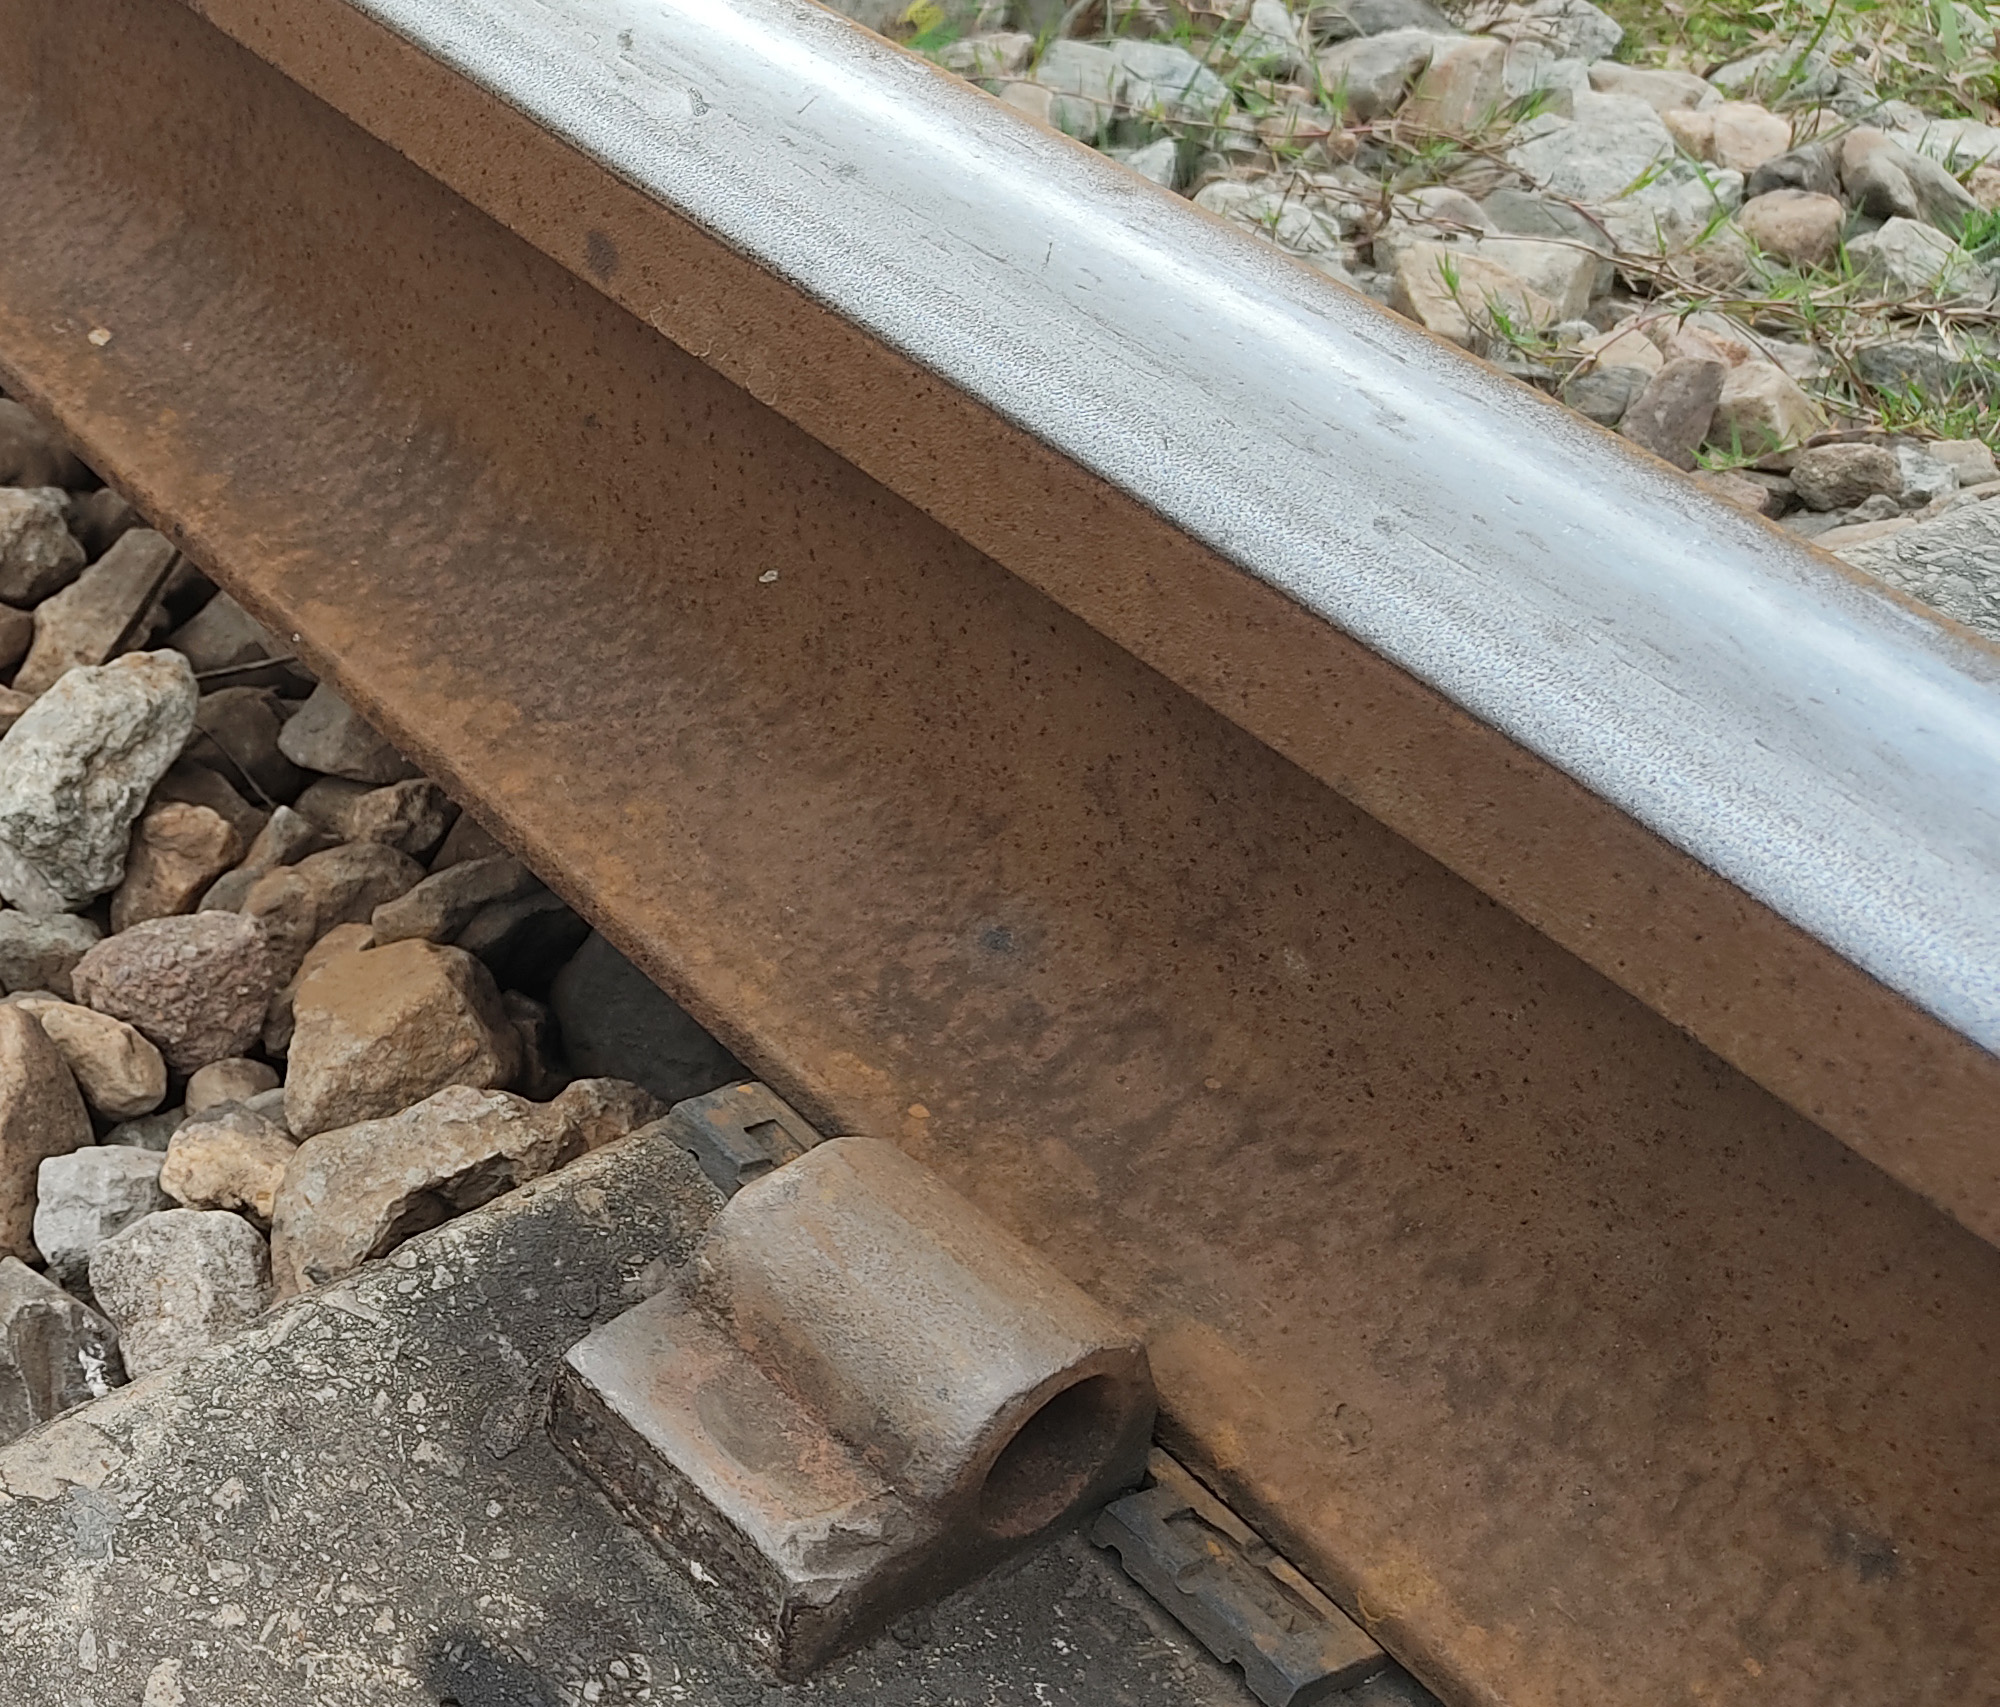error1: (525, 1101, 1231, 1683)
